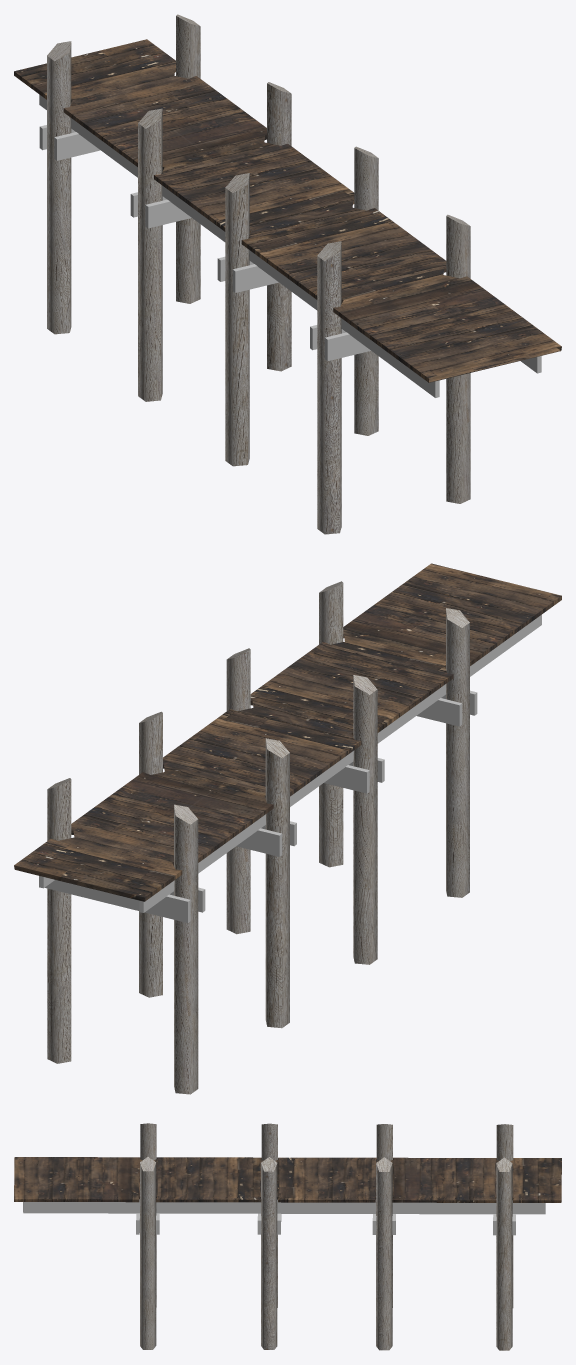
Rendered from Dock.fbx.
3 views of the same model, one above another, from view 1: azimuth 30°, elevation 25°; view 2: azimuth 150°, elevation 25°; view 3: azimuth 270°, elevation 25° (orthographic). The views are drawn at different scales.
Visible parts, largest first — view 1: Dock; view 2: Dock; view 3: Dock.
Boxes of the visible parts, bbox=[...] form: Dock: bbox=[14, 14, 561, 534]; Dock: bbox=[14, 563, 561, 1094]; Dock: bbox=[14, 1123, 561, 1350].
Bounding box in the file's own units: 180 × 322 × 857.
